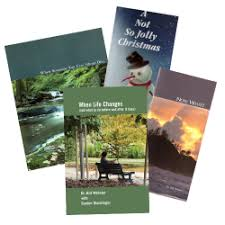book: (3, 27, 108, 172), (63, 86, 150, 216), (145, 66, 218, 202), (103, 6, 178, 95)
